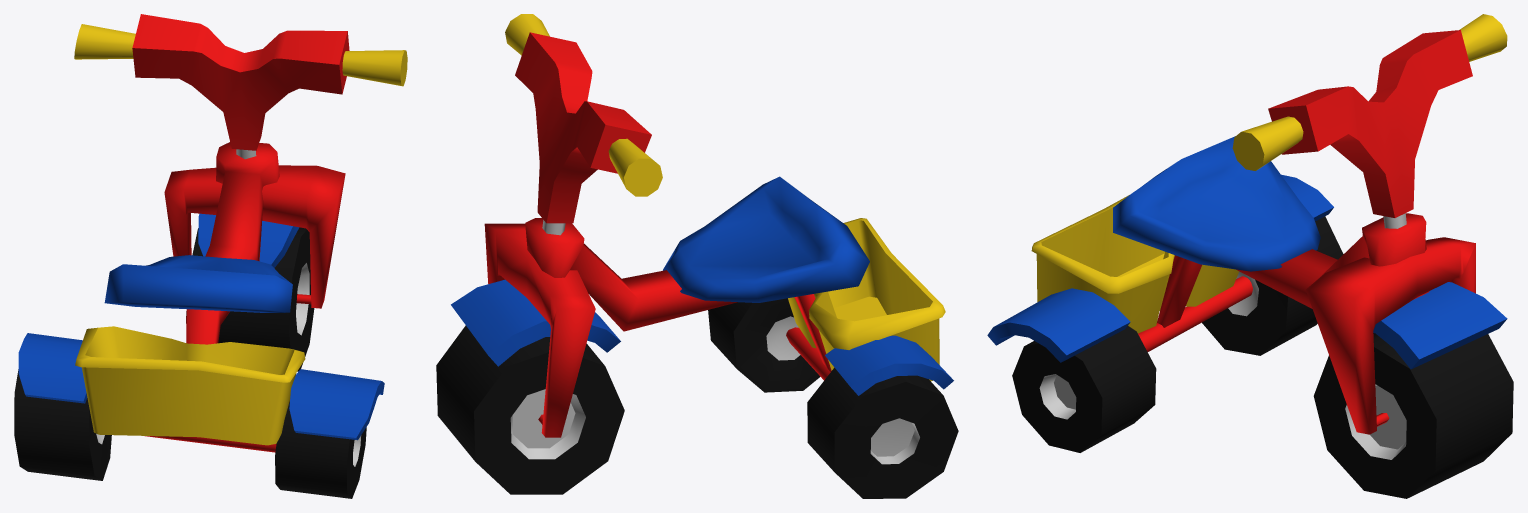
File: tricycle.fbx
The picture shows the model from 3 angles, left to right: view 1: azimuth 30°, elevation 25°; view 2: azimuth 150°, elevation 25°; view 3: azimuth 270°, elevation 25°; orthographic projection. The views are drawn at different scales.
Visible parts, largest first — view 1: tricycle; view 2: tricycle; view 3: tricycle.
Boxes of the visible parts, x1,y1,x2,y2 form: tricycle: [14, 14, 407, 498]; tricycle: [436, 14, 958, 498]; tricycle: [987, 14, 1513, 498].
Size of the model in its own units: 2.27 by 1.92 by 2.29.
